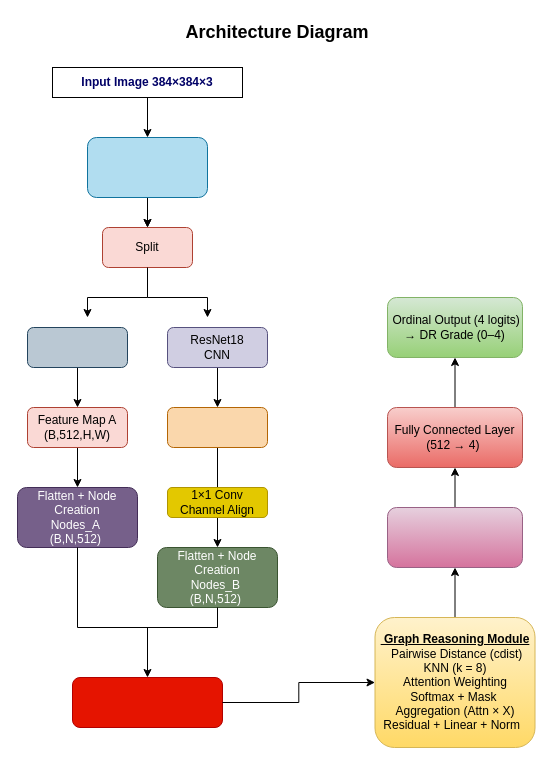
This 555x765 diagram has some shape labels left out. The centre of each missing label's shape, as x and y in pixels:
"Feature Fusion (Nodes_A + Nodes_B) / 2" goes at point (147, 702).
"Feature Map B (B,512,H,W)" goes at point (217, 427).
"Global Avg Pooling (B, N, 512 → B, 512)" goes at point (454, 537).
"MaxViT-Tiny Transformer" goes at point (77, 347).
"Preprocessing Resize + Enhance" goes at point (147, 167).
